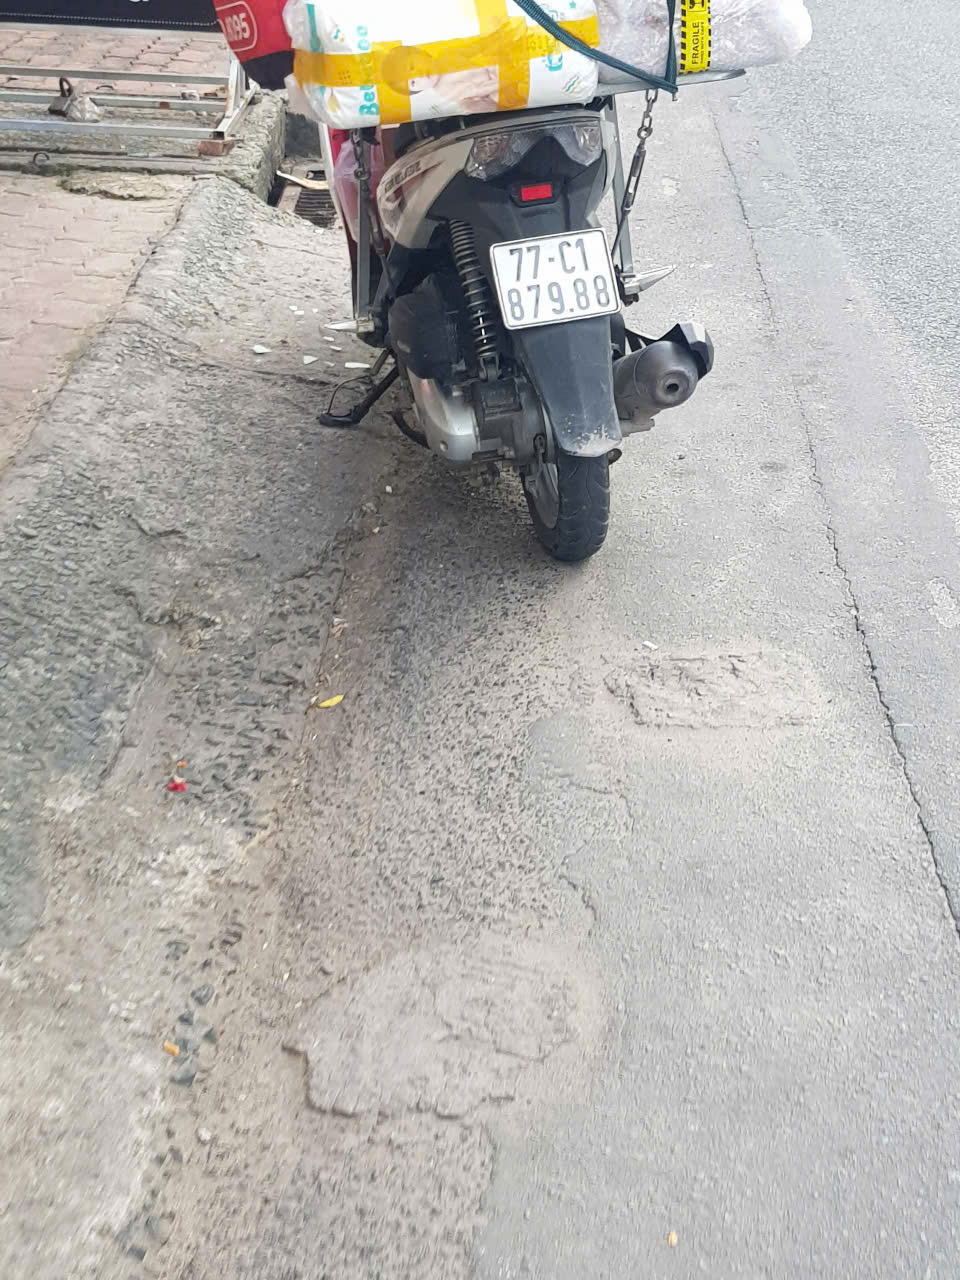bien_so: (492, 231, 617, 327)
